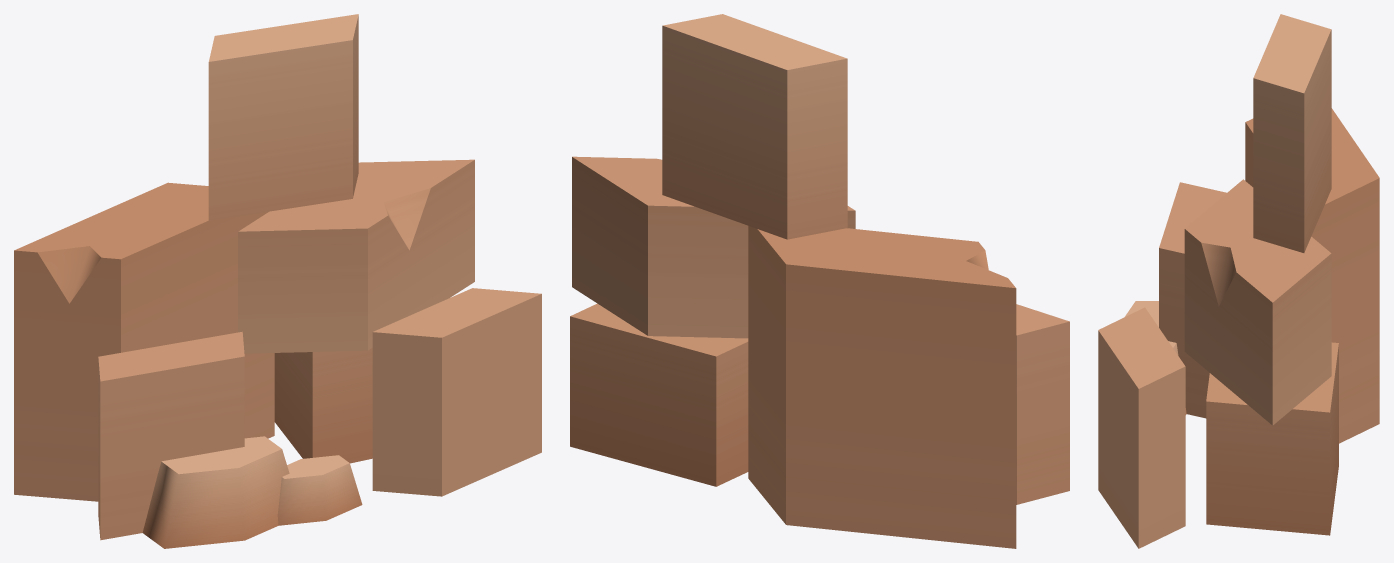
File: GateWall2.glb
3 renders of one model, left to right at view 1: azimuth 30°, elevation 25°; view 2: azimuth 150°, elevation 25°; view 3: azimuth 270°, elevation 25°, orthographic. The views are drawn at different scales.
Visible parts, largest first — view 1: bricks; view 2: bricks; view 3: bricks.
Part boxes in pixels (x1,y1,x2,y2): bricks: (14, 14, 541, 548); bricks: (570, 14, 1069, 548); bricks: (1098, 14, 1379, 548).
Size of the model in its own units: 1.54 by 1.35 by 0.8469.
Materials: 1 (1 with a texture image).
